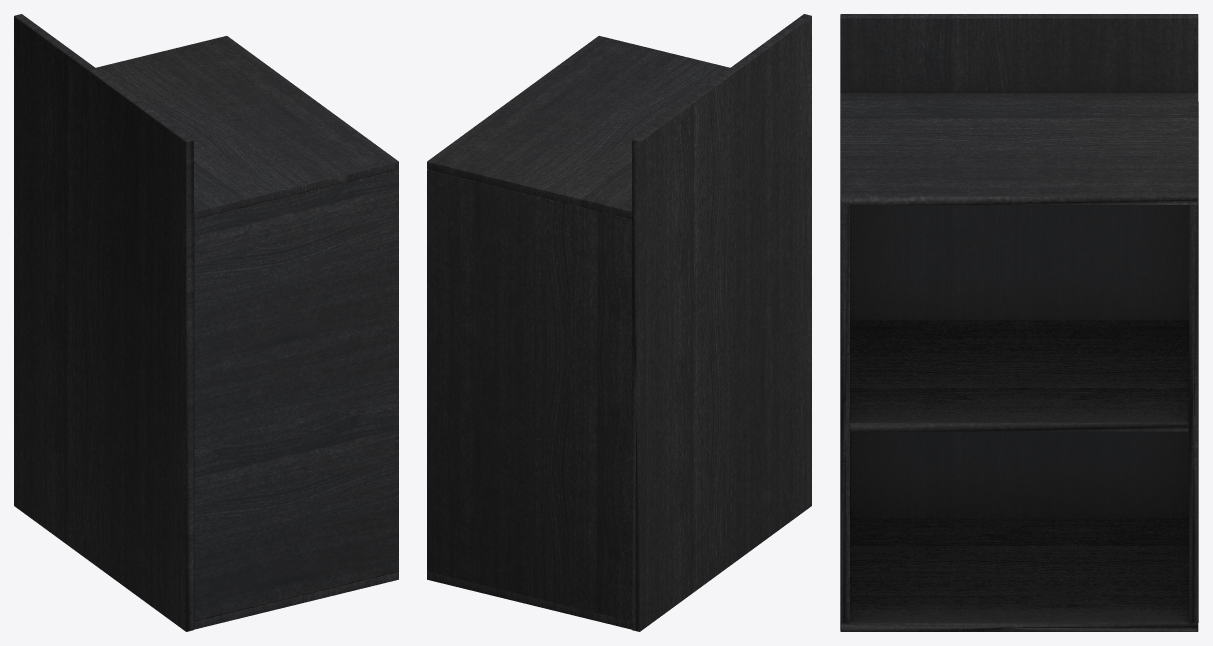
Rendered from caletta_white.glb.
The picture shows the model from 3 angles, left to right: view 1: azimuth 30°, elevation 25°; view 2: azimuth 150°, elevation 25°; view 3: azimuth 270°, elevation 25°; orthographic projection. The views are drawn at different scales.
Visible parts, largest first — view 1: caletta-black; view 2: caletta-black; view 3: caletta-black.
Boxes of the visible parts, box(x1,y1,x2,y2) form: caletta-black: box(14, 14, 398, 631); caletta-black: box(427, 14, 811, 631); caletta-black: box(840, 14, 1198, 631).
Size of the model in its own units: 0.4998 by 1.1 by 0.7002.
Materials: 1 (1 with a texture image).
